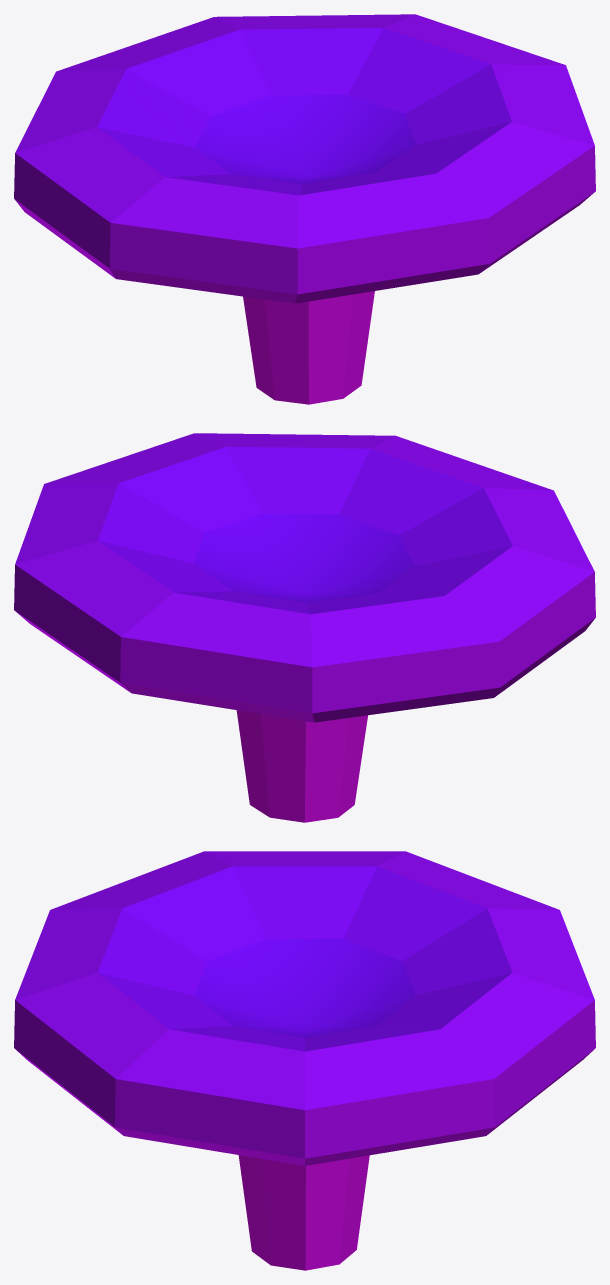
File: plante_3_etape_1.fbx
The picture shows the model from 3 angles, top to bottom: view 1: azimuth 30°, elevation 25°; view 2: azimuth 150°, elevation 25°; view 3: azimuth 270°, elevation 25°; orthographic projection. The views are drawn at different scales.
Visible parts, largest first — view 1: stage_1; view 2: stage_1; view 3: stage_1.
Part boxes in pixels (x1,y1,x2,y2): stage_1: (14, 14, 595, 404); stage_1: (14, 433, 595, 822); stage_1: (14, 851, 595, 1270).
Bounding box in the file's own units: 1.13 × 0.5834 × 1.07.
